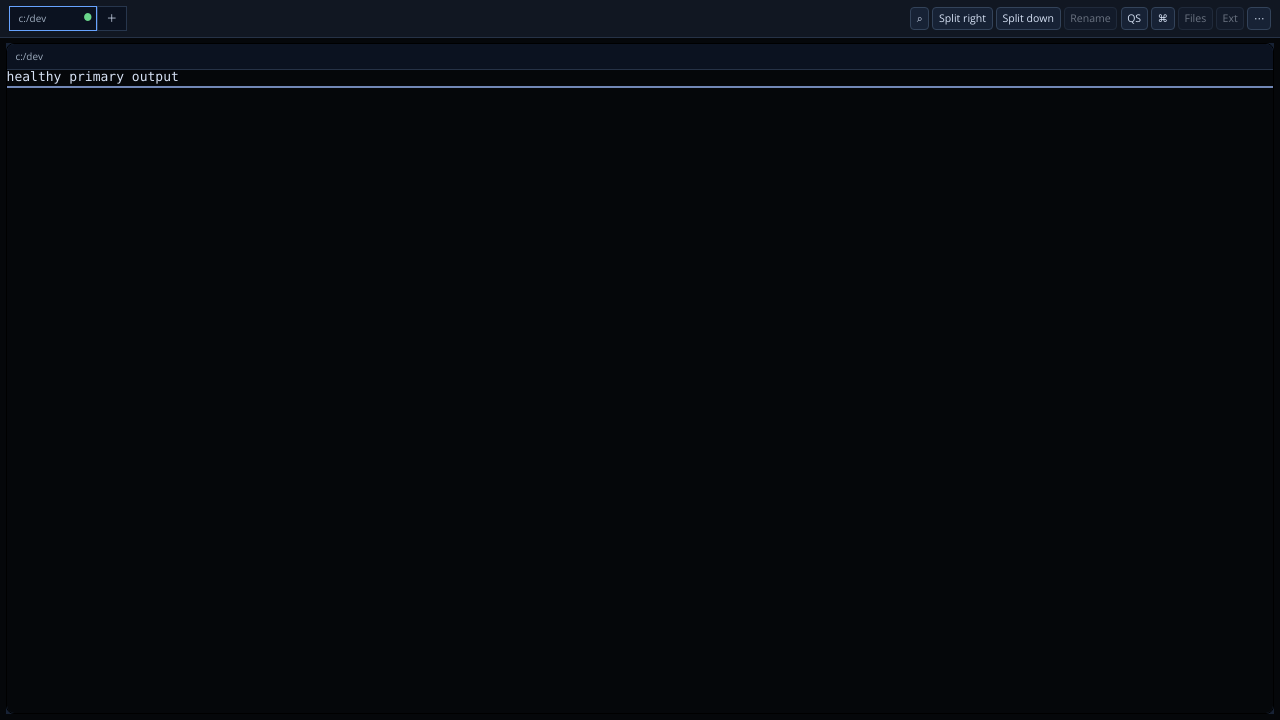
Test case: persistent terminal presentation preserves workbench contracts › scopes split read-error to its pane and preserves the notice on reopen
Click the button with aria-label "Split terminal pane right". click: point(963, 18)
box: x1=932 y1=7 x2=993 y2=30
Wait 2201 ms
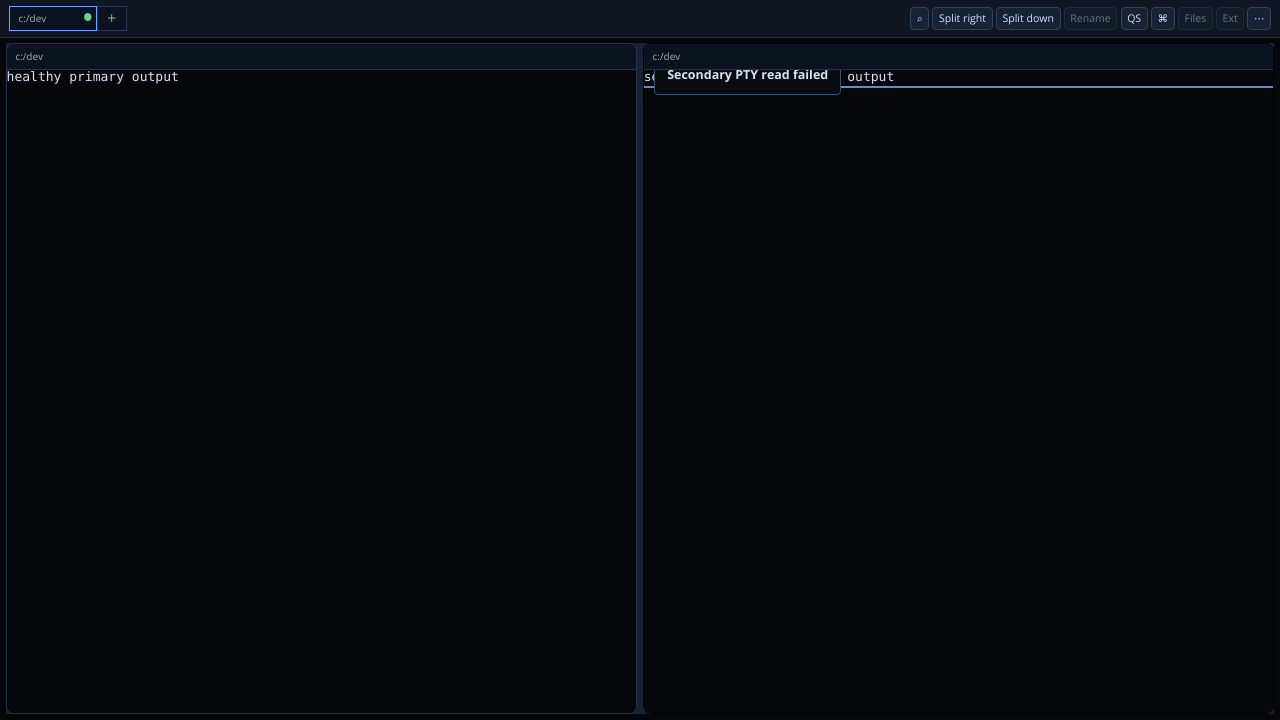
Expected: the element showing "healthy primary output" is shown, x1=7 y1=70 x2=636 y2=713
Expected: the message reads "Secondary PTY read failed", x1=667 y1=66 x2=828 y2=83
Expected: the element named "Terminal output" shows "secondary output", x1=644 y1=70 x2=894 y2=85
